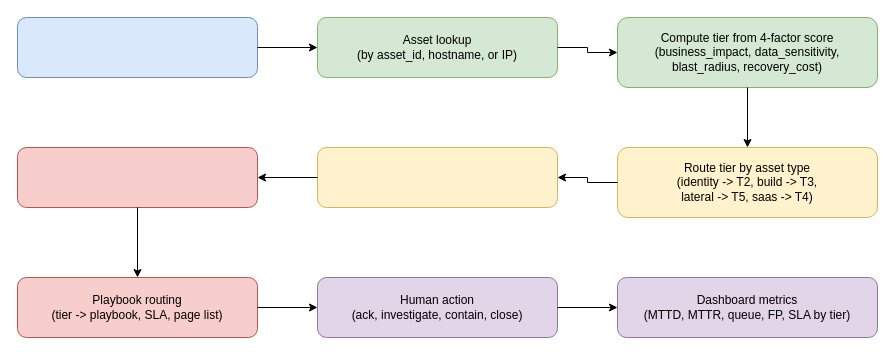
Image size: 895x355. Some labels were removed from this diagram. Each missing label, with the centre of its shape:
Alert fires in SIEM (detection_name, severity, asset_id): point (137, 47)
Prioritized queue (sorted by score, written to markdown / SIEM): point (137, 177)
Priority = severity_base x tier_multiplier: point (437, 177)
